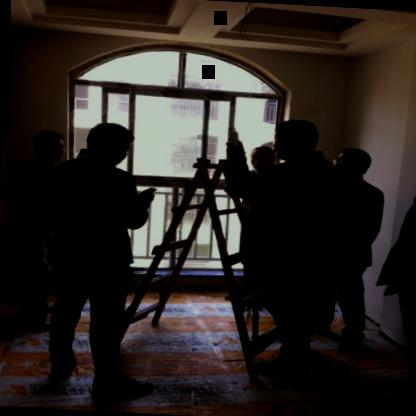head: (268, 115, 325, 163), (82, 119, 137, 165), (26, 124, 70, 166), (331, 144, 377, 182), (245, 145, 282, 175)
